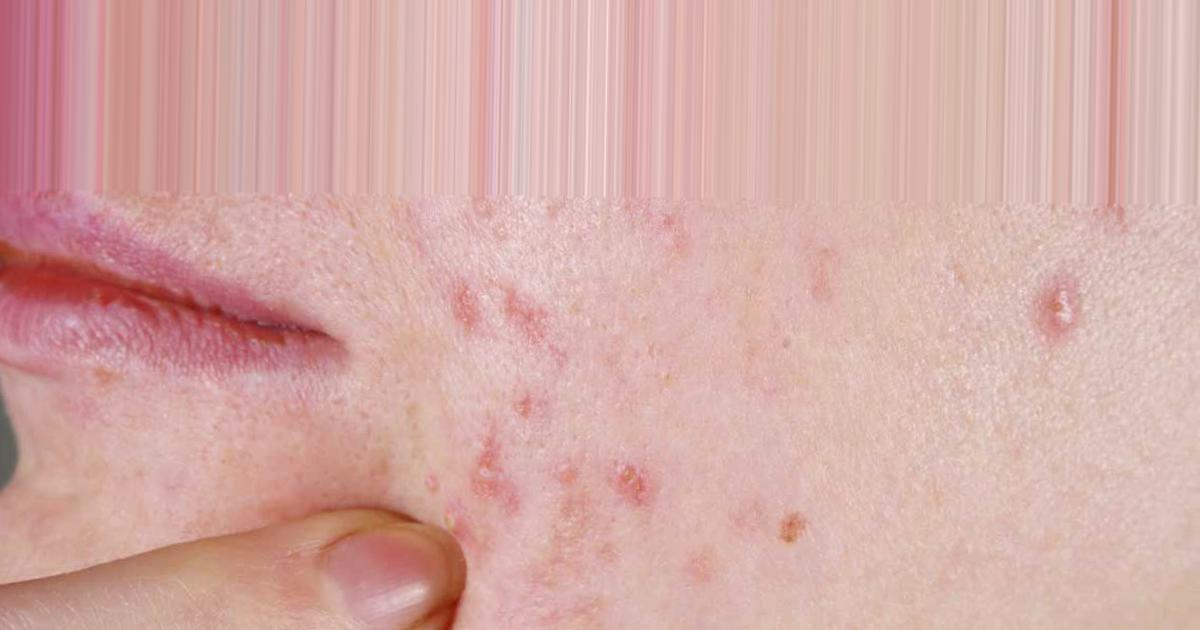Acne: (965, 237, 1104, 353), (437, 287, 596, 373), (585, 429, 679, 537), (437, 447, 528, 536)
